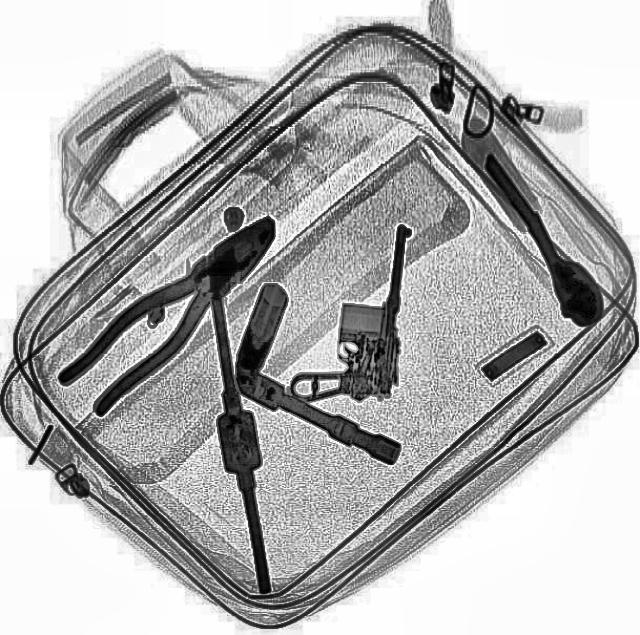Gun: (287, 216, 408, 406)
Pliers: (52, 198, 296, 418)
